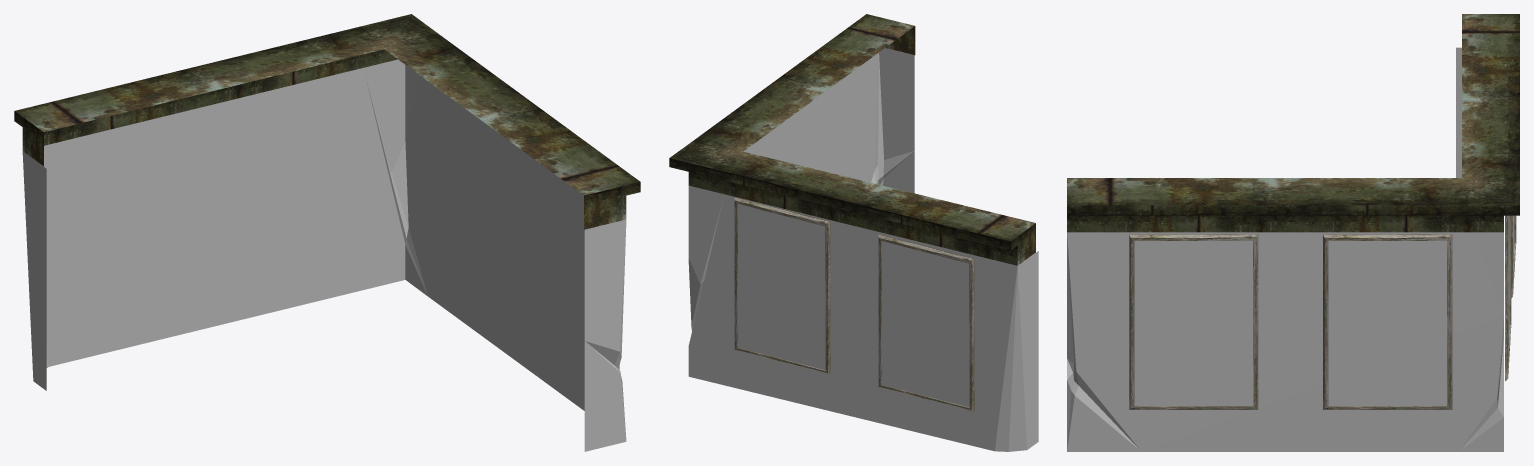
File: Store_front_7_D.fbx
3 renders of one model, left to right at view 1: azimuth 30°, elevation 25°; view 2: azimuth 150°, elevation 25°; view 3: azimuth 270°, elevation 25°, orthographic. The views are drawn at different scales.
Parts seen in each view (by area): view 1: Store_front_7_D; view 2: Store_front_7_D; view 3: Store_front_7_D.
Part boxes in pixels (<box>): Store_front_7_D: <box>14,14,640,451</box>; Store_front_7_D: <box>669,14,1038,451</box>; Store_front_7_D: <box>1067,14,1519,451</box>.
Size of the model in its own units: 702 by 433 by 701.
